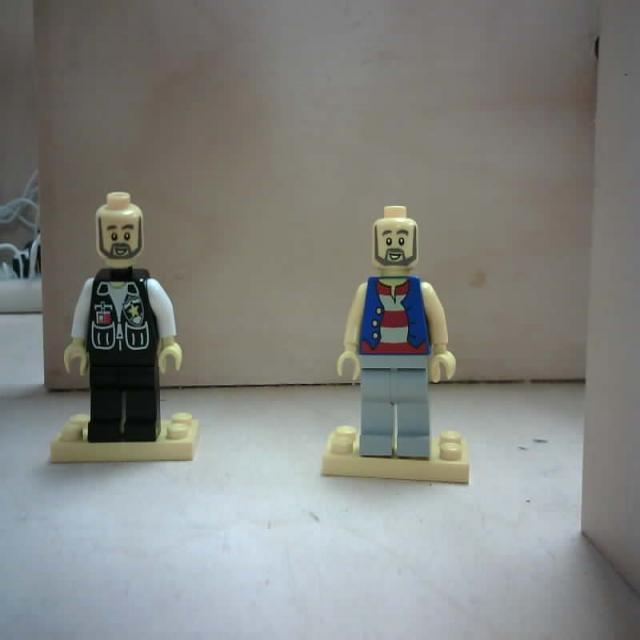Lego-People: (321, 204, 472, 488), (47, 192, 201, 464)
